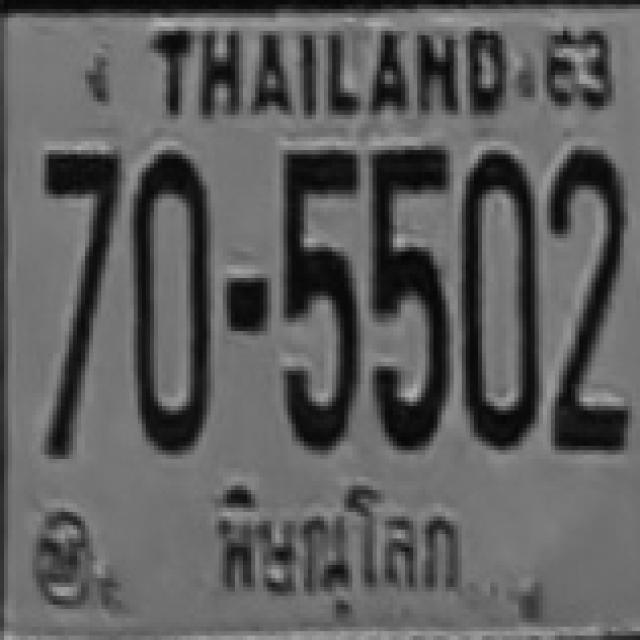0: (368, 247, 446, 446), (282, 247, 358, 446), (132, 148, 208, 346)
2: (551, 238, 628, 446)
7: (42, 150, 120, 322), (42, 150, 120, 305)
Phitsanulok: (192, 469, 476, 625)
